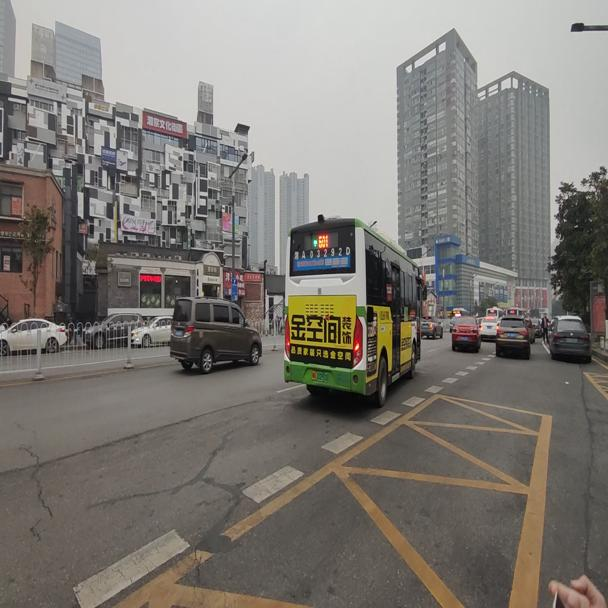bus: (283, 211, 427, 409)
screen: (318, 234, 328, 247)
